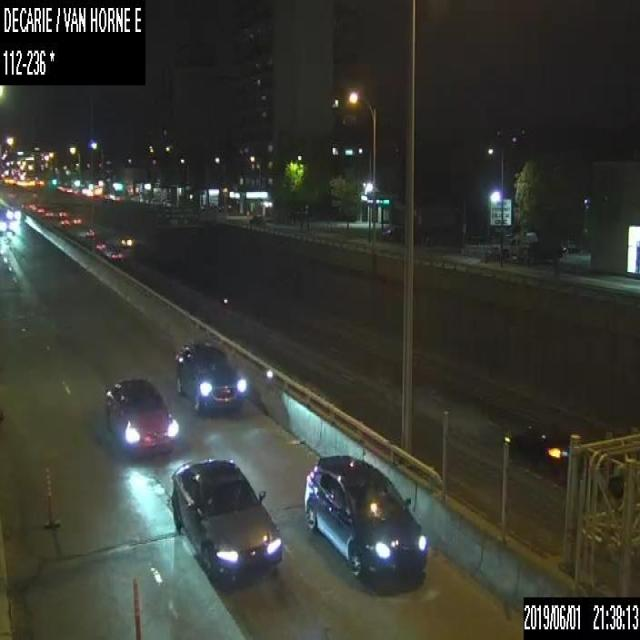construction: (43, 468, 56, 528), (130, 576, 140, 639)
vehicle: (301, 450, 430, 590), (170, 454, 284, 594), (102, 373, 179, 451), (171, 337, 247, 412), (510, 425, 568, 480), (516, 239, 560, 264), (103, 247, 122, 260), (6, 204, 21, 220), (117, 234, 134, 246), (0, 209, 6, 231), (94, 239, 105, 250), (72, 213, 81, 224), (59, 216, 68, 227), (86, 227, 94, 236), (44, 209, 52, 217), (58, 210, 65, 218), (36, 205, 43, 212)
